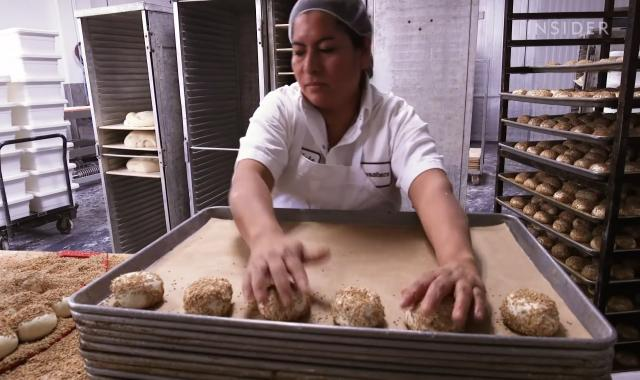hairnet: (286, 0, 376, 49)
